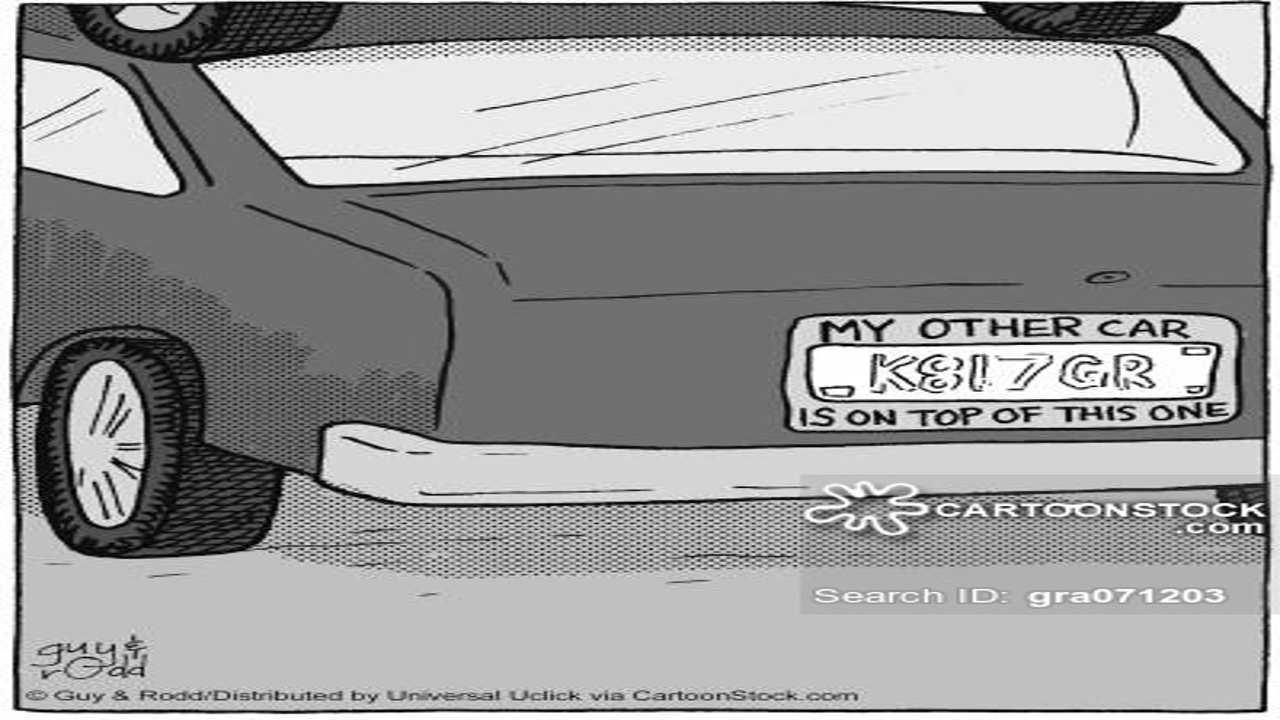license: (777, 307, 1250, 438)
